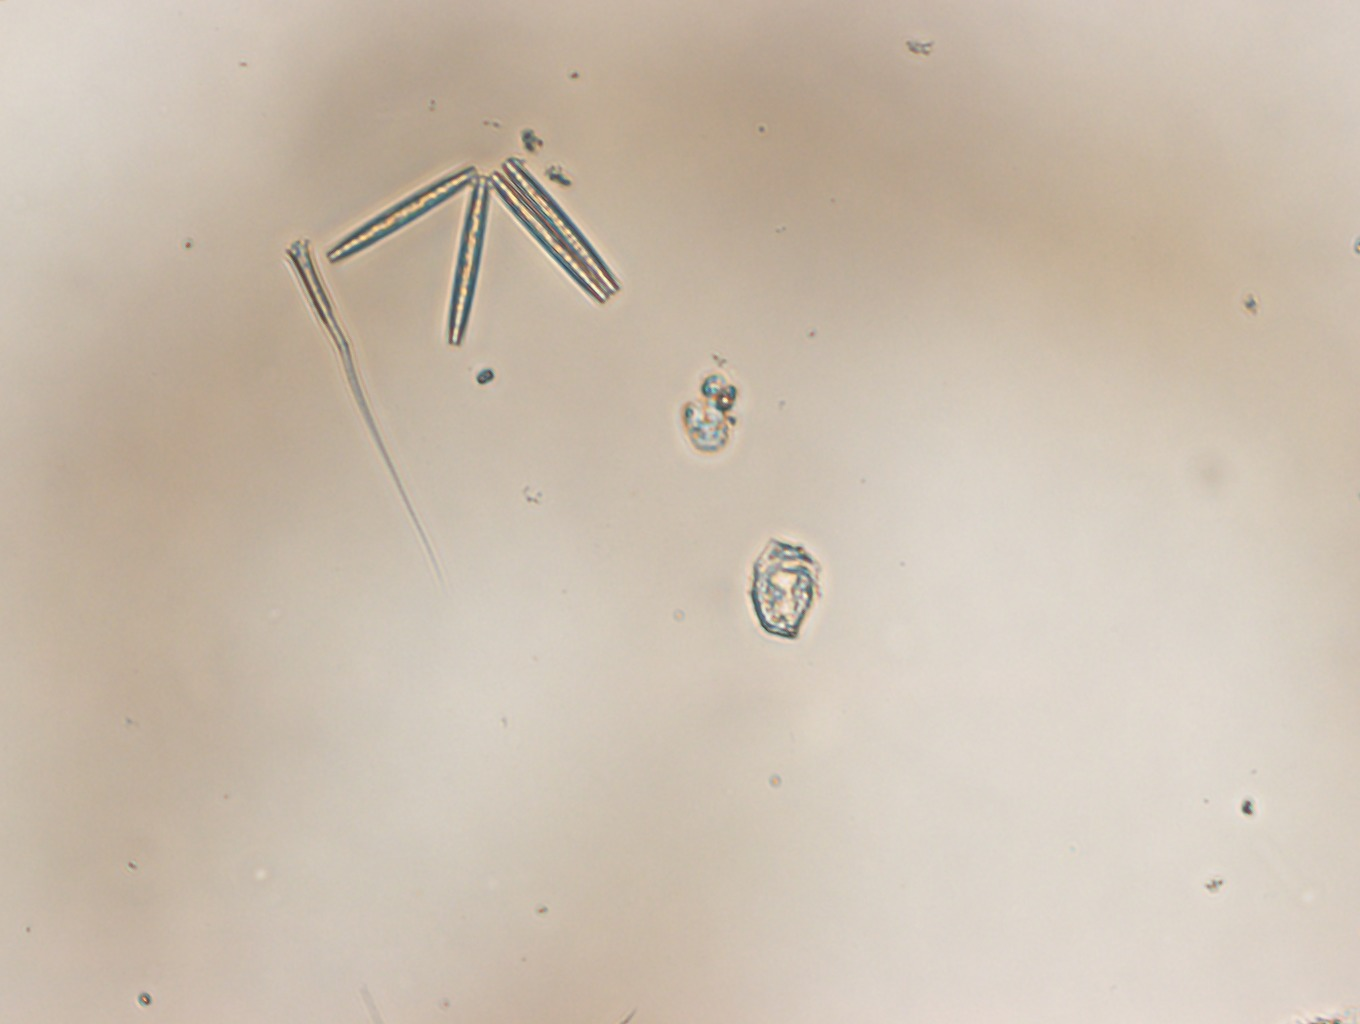thalassionema nitzschioides: (325, 155, 619, 350)
